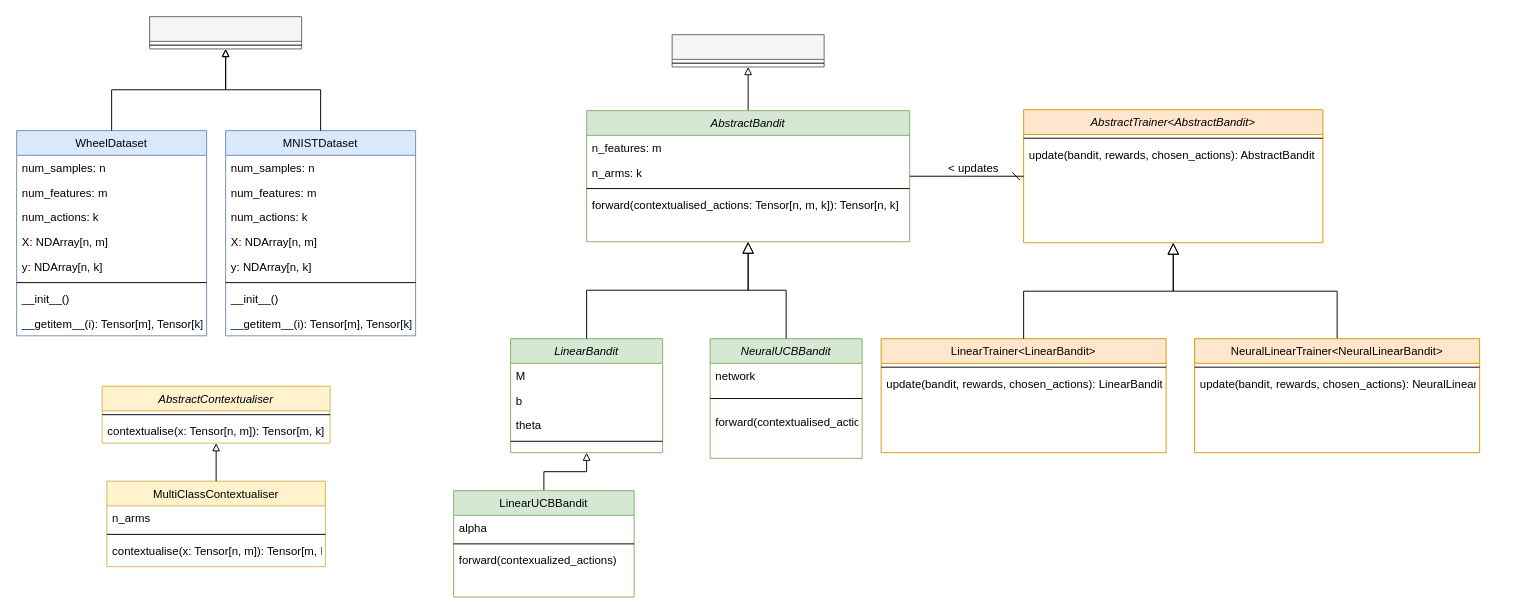
Image size: 1526x614. Some labels were removed from this diagram. The centre of each missing label's shape, as x and y in pixels:
torch.nn.Dataset: point (225, 32)
torch.nn.Module: point (747, 50)
